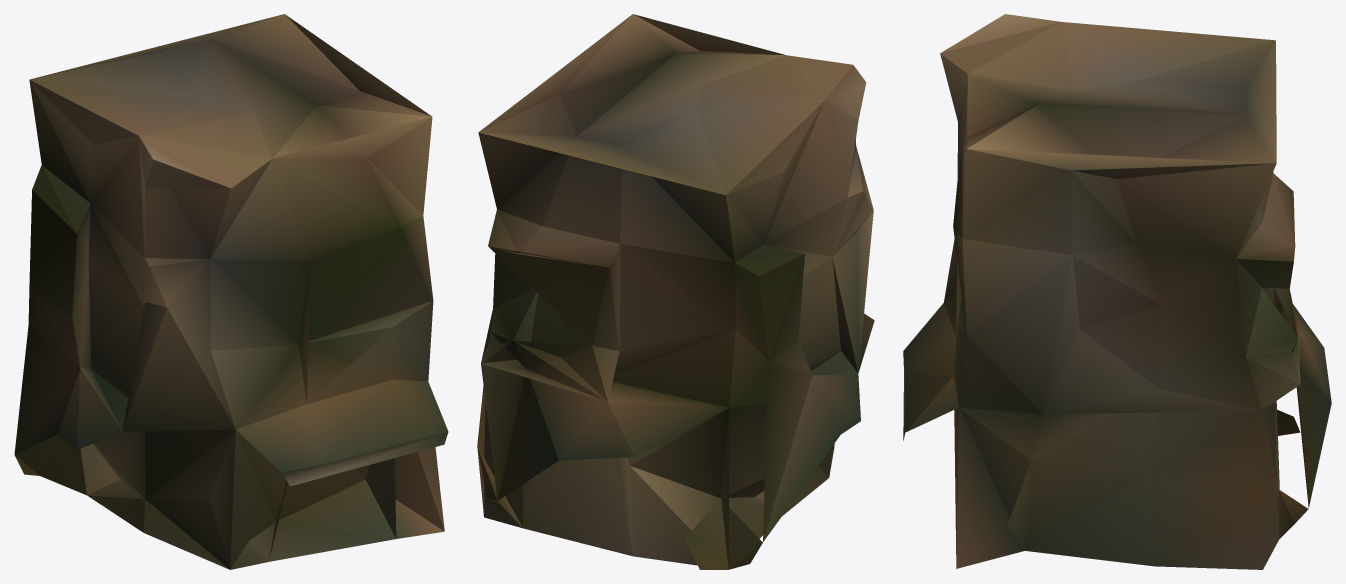
The model's file is city-corner.glb.
3 views of the same model, side by side, from view 1: azimuth 30°, elevation 25°; view 2: azimuth 150°, elevation 25°; view 3: azimuth 270°, elevation 25° (orthographic). The views are drawn at different scales.
Parts seen in each view (by area): view 1: city-corner-far; view 2: city-corner-far; view 3: city-corner-far.
Part boxes in pixels (<box>): city-corner-far: <box>14,14,448,569</box>; city-corner-far: <box>477,14,874,569</box>; city-corner-far: <box>903,14,1331,569</box>.
Size of the model in its own units: 8.45 by 10.99 by 10.03.
